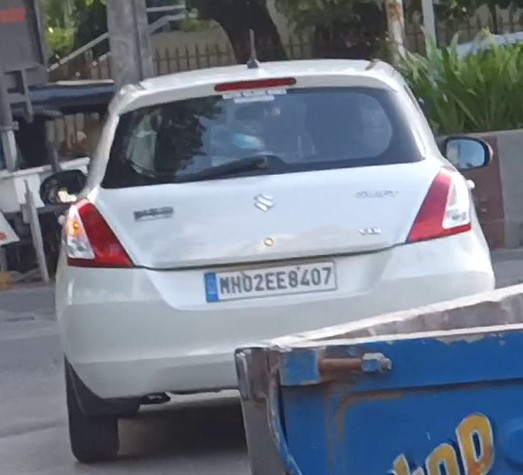MH02EE8407: (204, 260, 337, 302)
